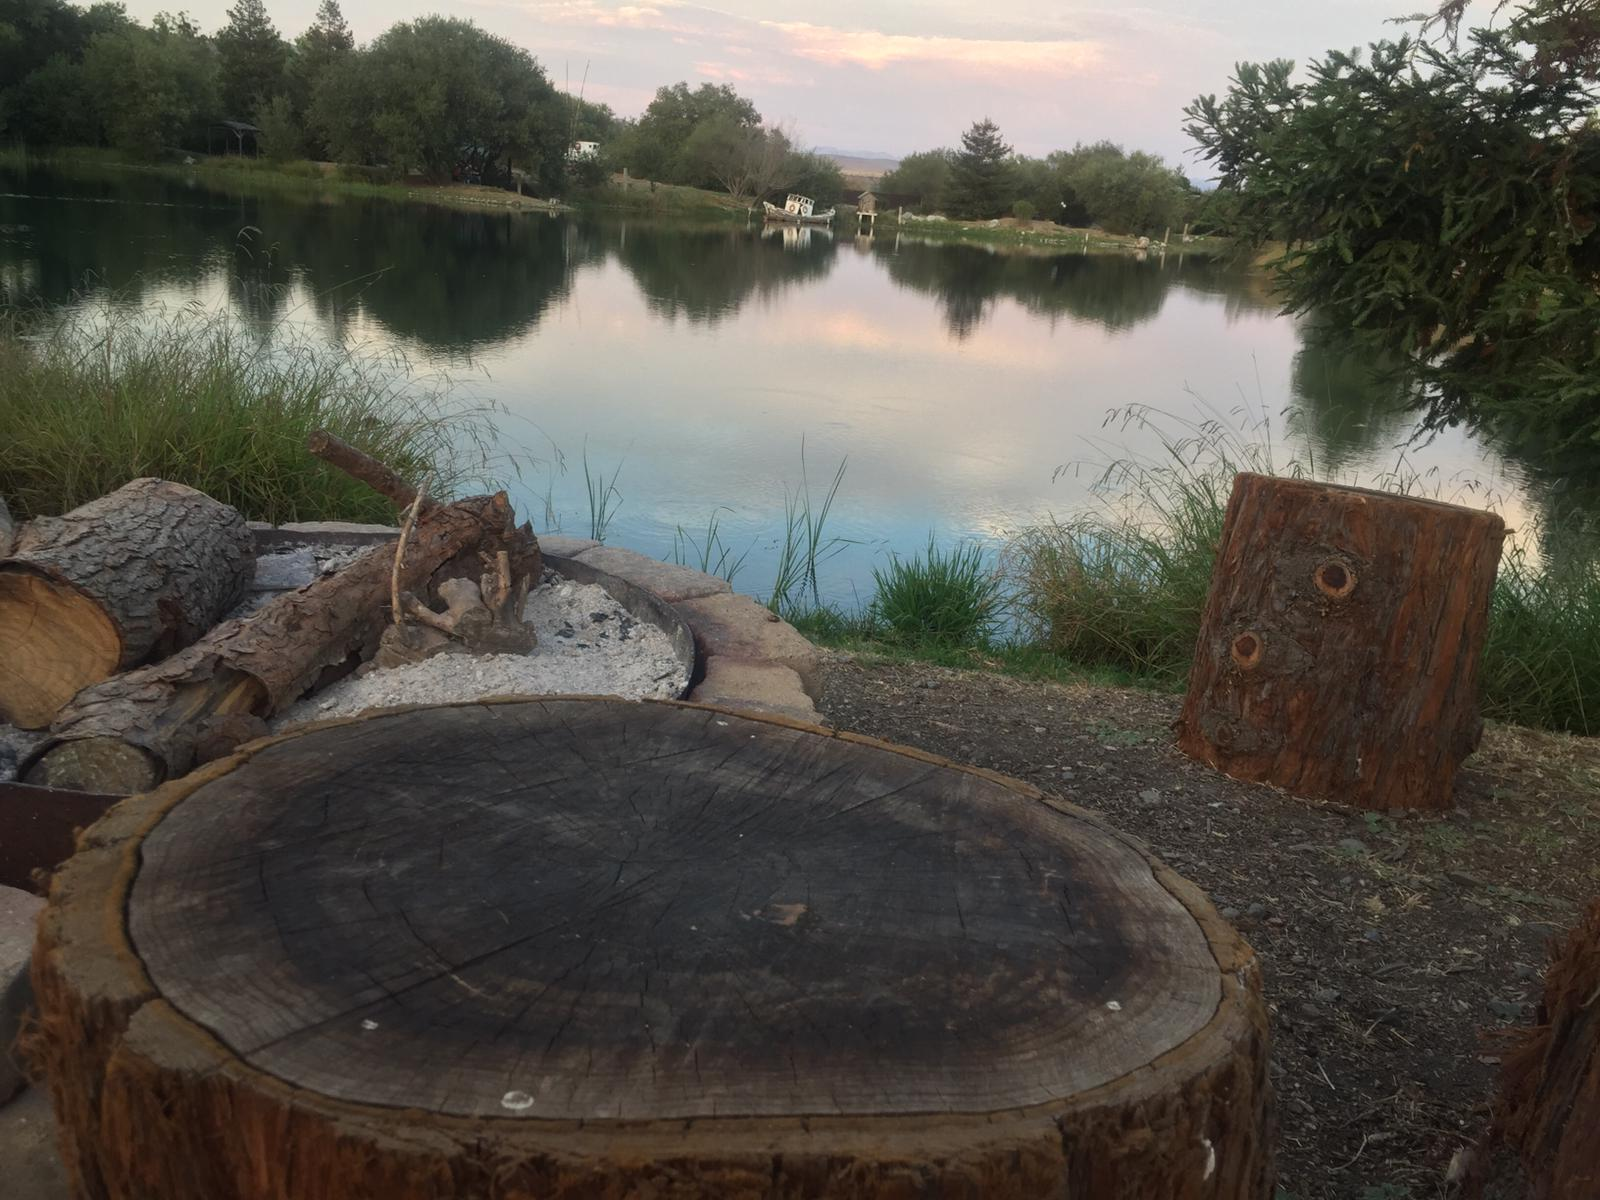plants: (6, 3, 556, 180), (1193, 83, 1600, 287), (4, 314, 447, 480), (905, 129, 1193, 221), (650, 88, 826, 205), (1039, 531, 1191, 667), (1453, 306, 1600, 431), (1509, 565, 1597, 729), (883, 565, 988, 642)
